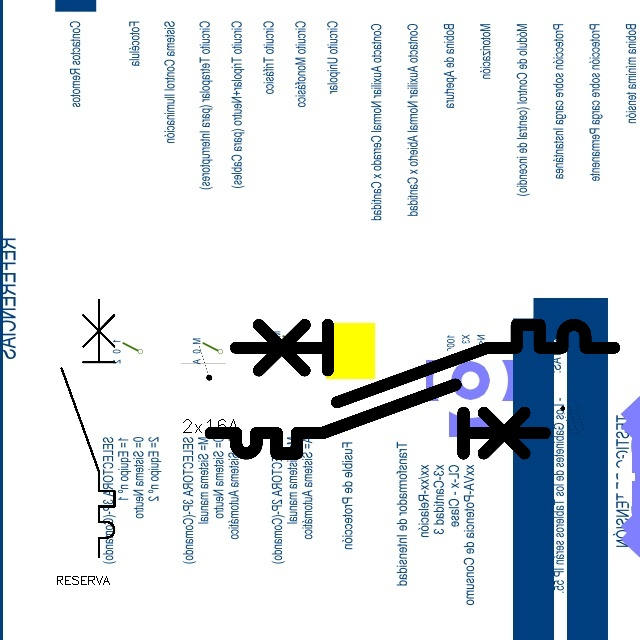interruptor_termomagnetico: (226, 315, 624, 412), (202, 376, 553, 462), (55, 293, 121, 564)
